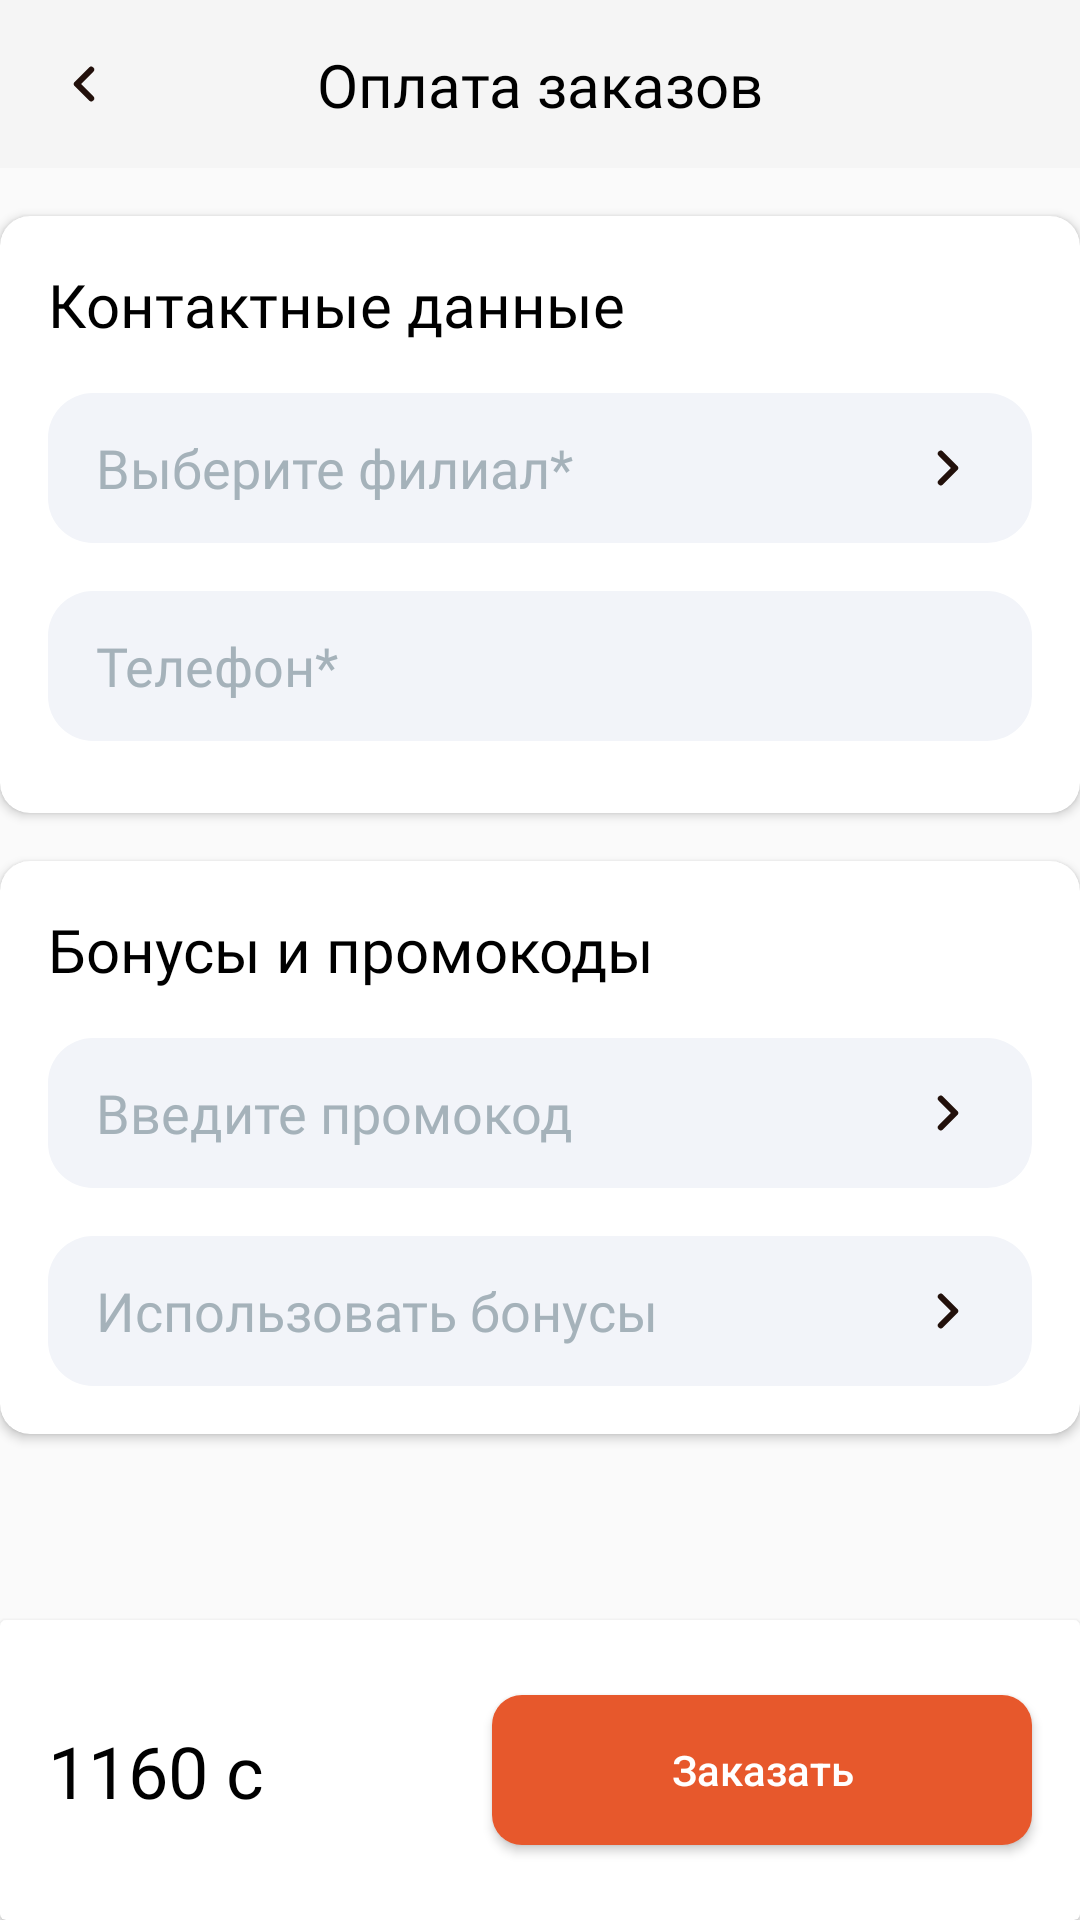

Where icons sit on this 1080px x 1920px app screen, as [x1,y1,x2,y2]:
arrow back: [73,66,95,102]
chevron right: [937,450,959,486], [937,1095,959,1131], [937,1293,959,1329]
